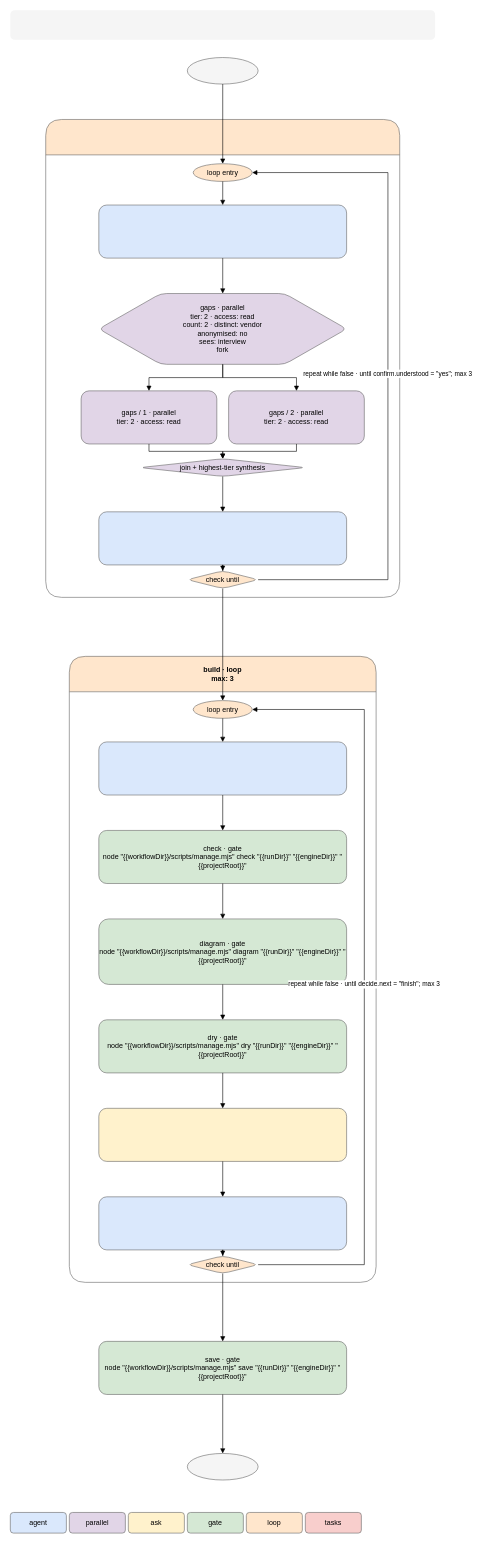
The diagram is 483 pixels wide and 1543 high, and some of its shapes have lost their labels. The shapes that lost their labels are listed below. From the top down, each one's box as (x1, y1, x2, y2) in pixels, then its label:
(10, 10, 435, 40): Workflow · budget: 40 calls
(187, 57, 258, 84): Start
(98, 204, 347, 258): interview · agent tier: 3 · access: read
(45, 119, 400, 597): understand · loop max: 3
(98, 511, 347, 565): confirm · agent tier: 3 · access: read chooses understood: yes | no
(98, 741, 347, 795): draft · agent tier: 3 · access: read
(98, 1108, 347, 1161): approve · ask you answer
(98, 1196, 347, 1250): decide · agent tier: 1 · access: read chooses next: finish | revise
(187, 1453, 258, 1480): End
